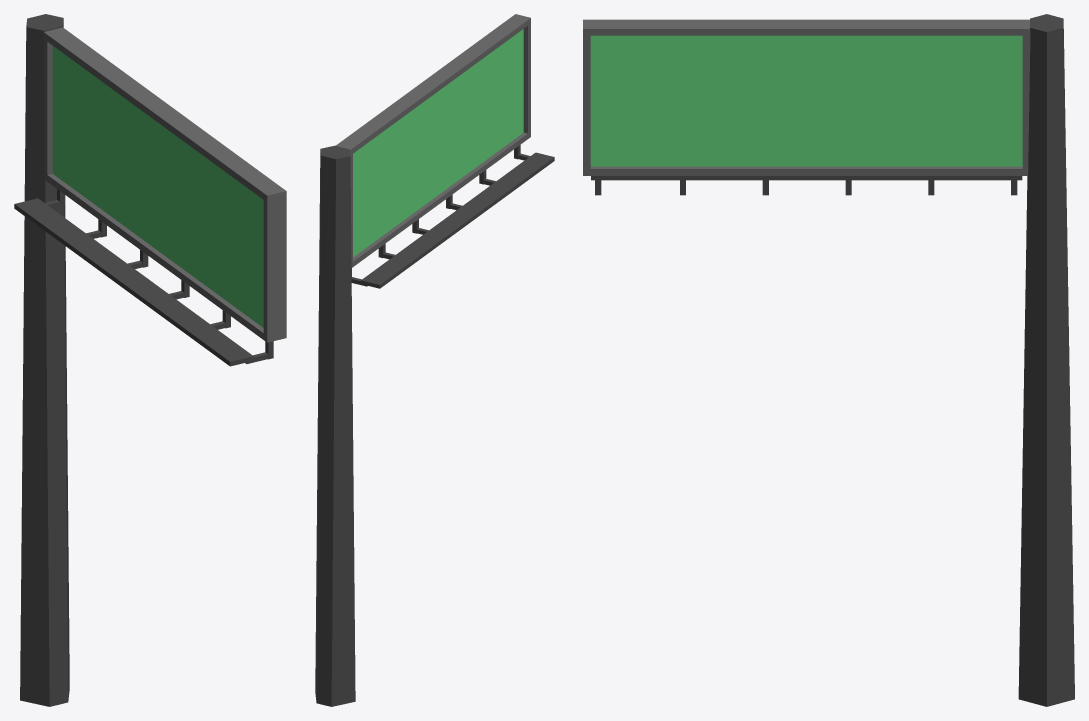
Rendered from board.fbx.
3 renders of one model, left to right at view 1: azimuth 30°, elevation 25°; view 2: azimuth 150°, elevation 25°; view 3: azimuth 270°, elevation 25°, orthographic. The views are drawn at different scales.
Parts seen in each view (by area): view 1: pCylinder2; view 2: pCylinder2; view 3: pCylinder2.
Part boxes in pixels (x1,y1,x2,y2): pCylinder2: (14, 14, 286, 706); pCylinder2: (315, 14, 554, 706); pCylinder2: (583, 14, 1074, 706).
Size of the model in its own units: 4.22 by 40.02 by 26.56.
